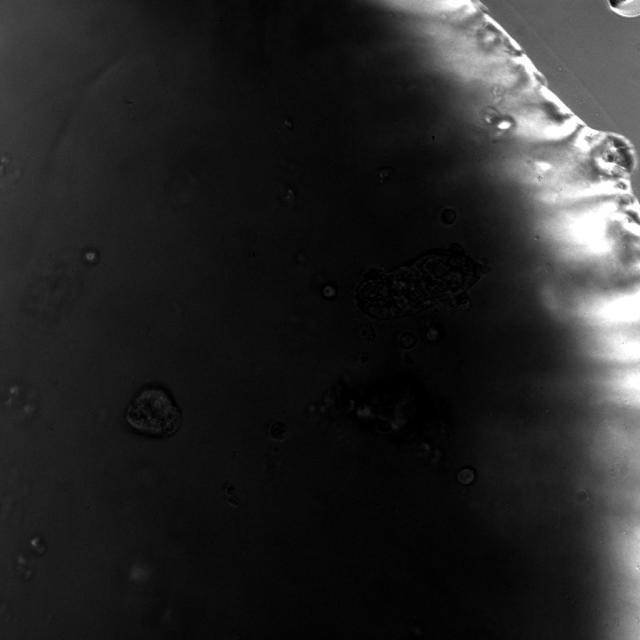organoid: (355, 244, 486, 319), (128, 388, 181, 436), (0, 379, 38, 421), (16, 536, 46, 579), (457, 467, 477, 485)
